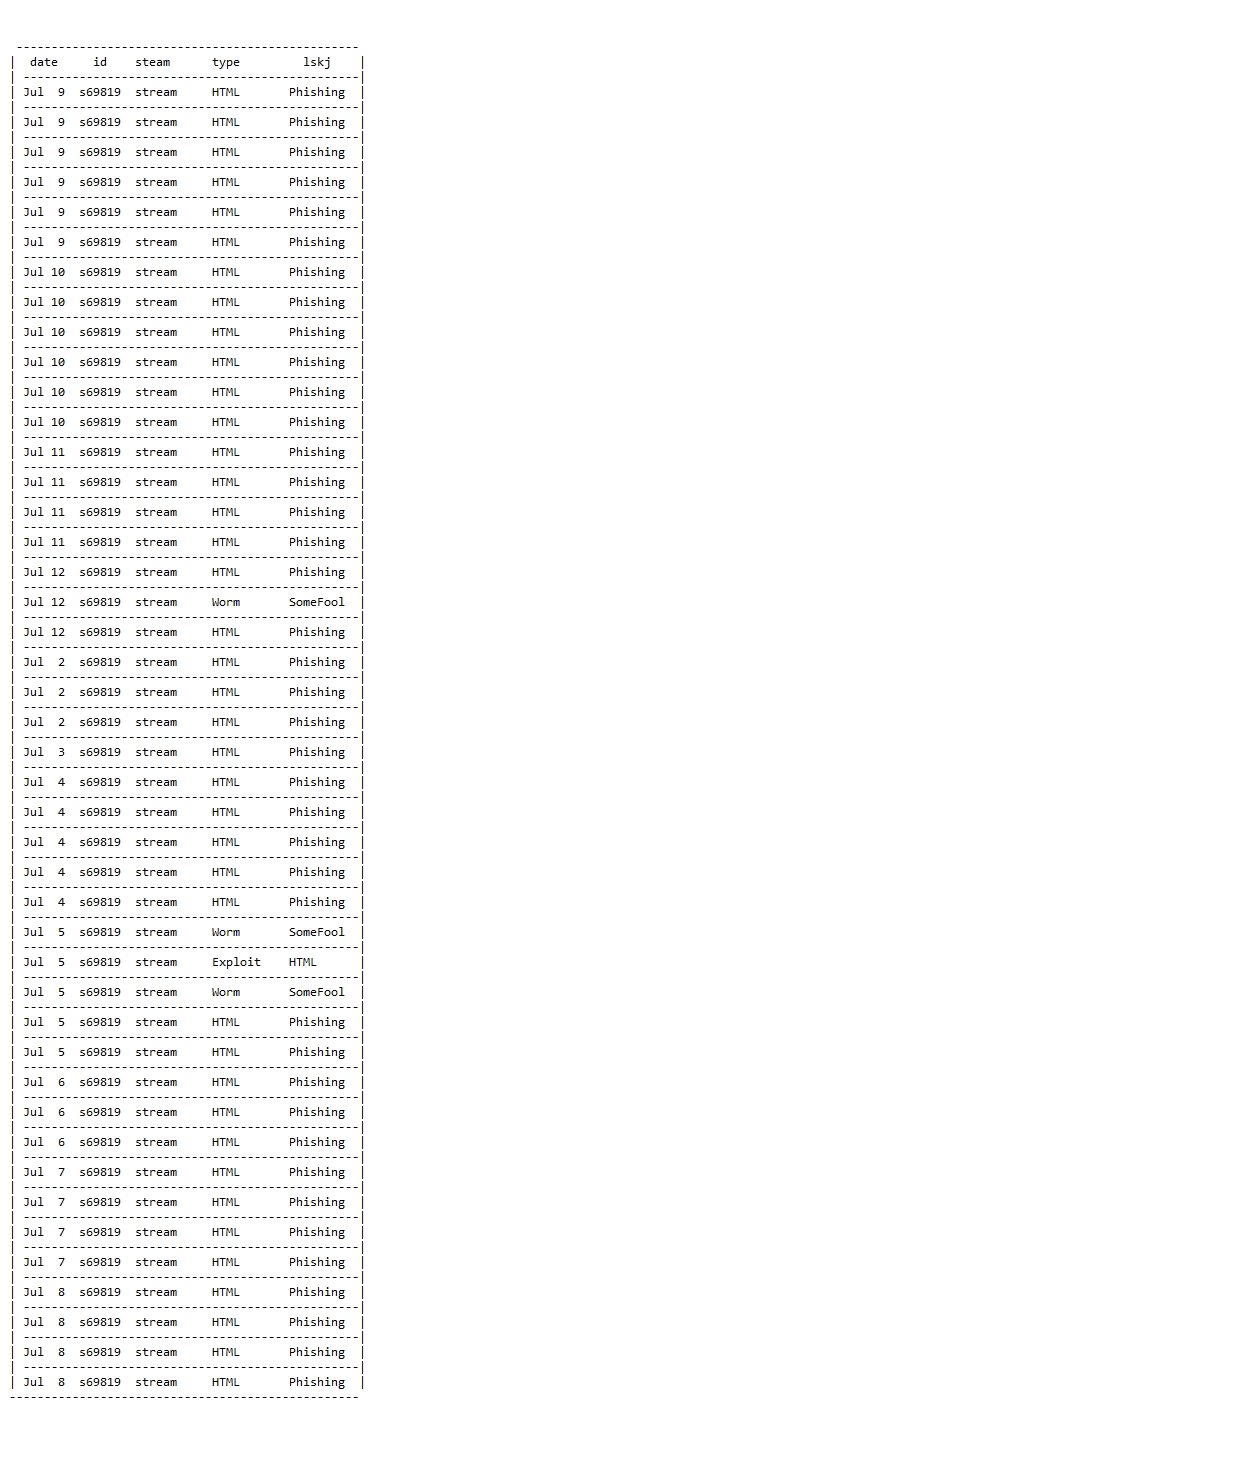table: (6, 31, 367, 1410)
